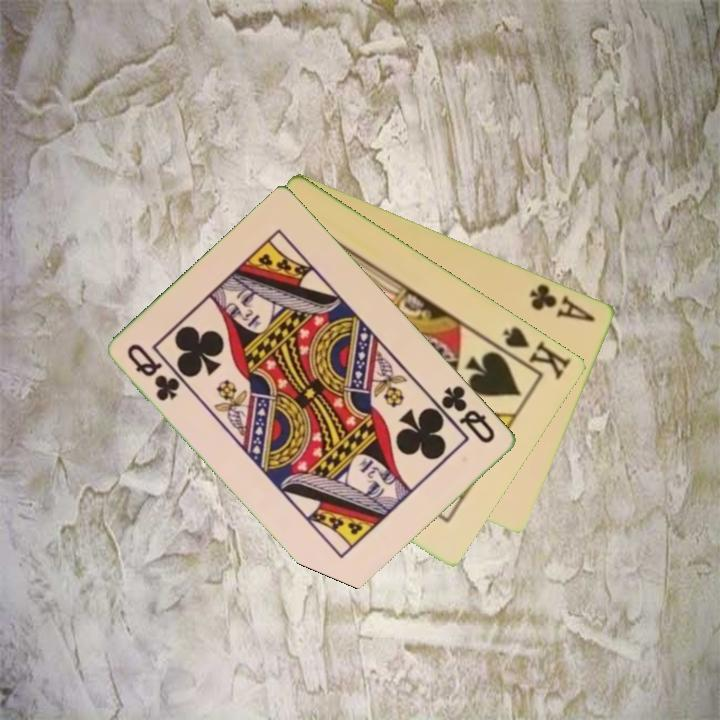Ac: (526, 280, 599, 325)
Ks: (491, 322, 575, 383)
Qc: (430, 381, 499, 447), (124, 340, 184, 404)
